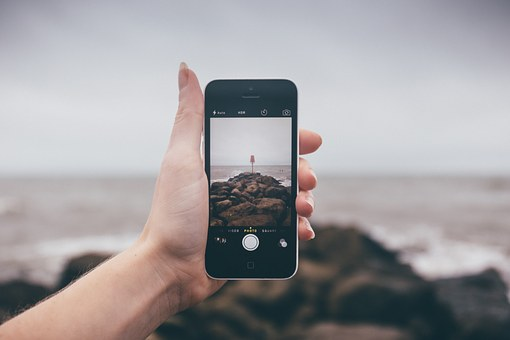mobile: (165, 54, 322, 293)
